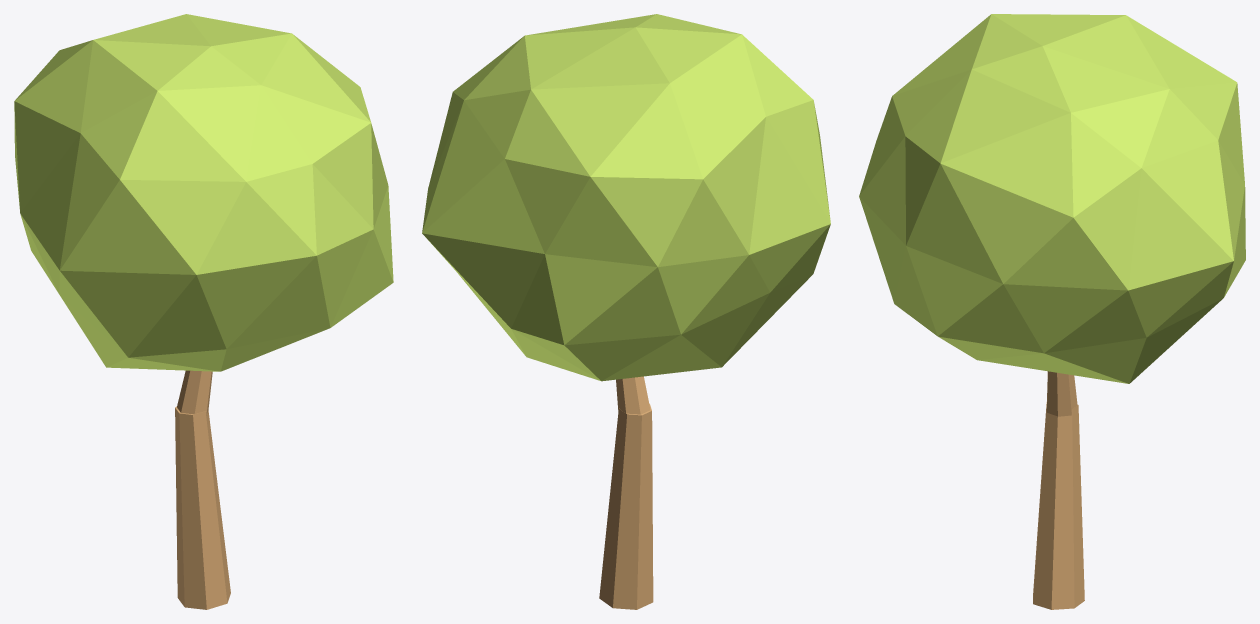
File: Tree_Round.fbx
3 views of the same model, side by side, from view 1: azimuth 30°, elevation 25°; view 2: azimuth 150°, elevation 25°; view 3: azimuth 270°, elevation 25° (orthographic). The views are drawn at different scales.
Parts seen in each view (by area): view 1: Tree_Round; view 2: Tree_Round; view 3: Tree_Round.
Boxes of the visible parts, x1=… form: Tree_Round: x1=14, y1=14, x2=393, y2=609; Tree_Round: x1=422, y1=14, x2=830, y2=609; Tree_Round: x1=859, y1=14, x2=1245, y2=609.
Size of the model in its own units: 1.84 by 2.92 by 1.84.
